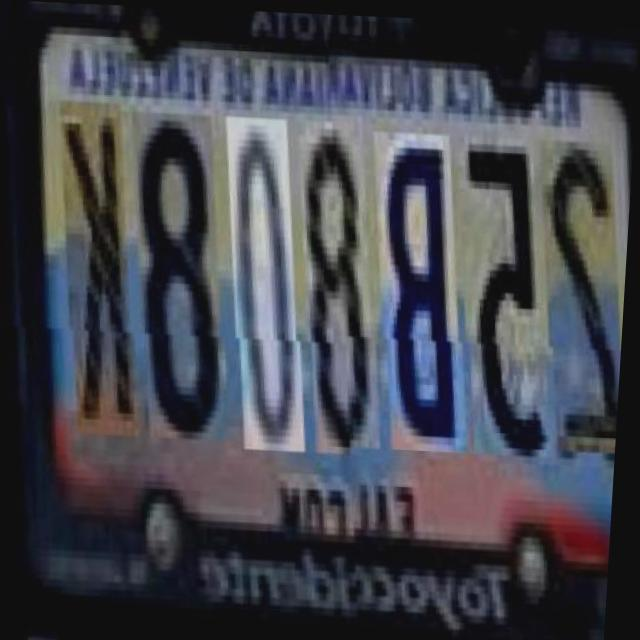2: (525, 141, 634, 455)
5: (441, 139, 557, 460)
8: (115, 111, 236, 439), (281, 118, 388, 453)
b: (357, 135, 474, 456)
k: (43, 101, 147, 436)
o: (209, 115, 313, 449)
